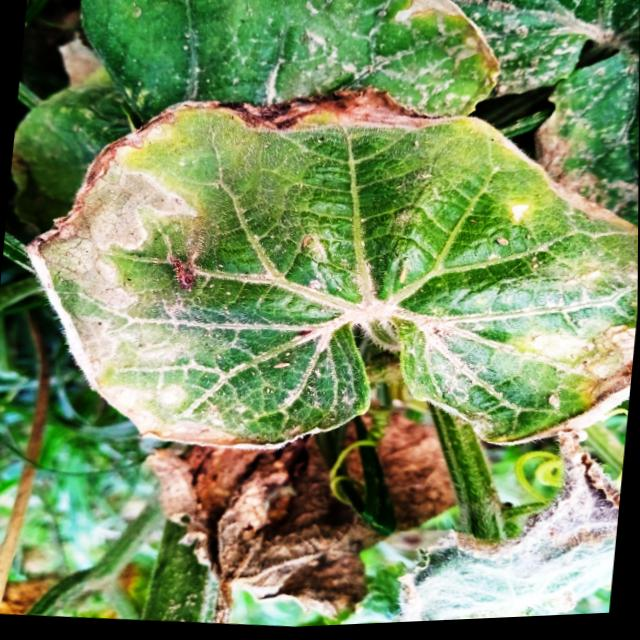Gummy-Stem-Blight: (26, 84, 459, 450), (447, 430, 619, 560)
